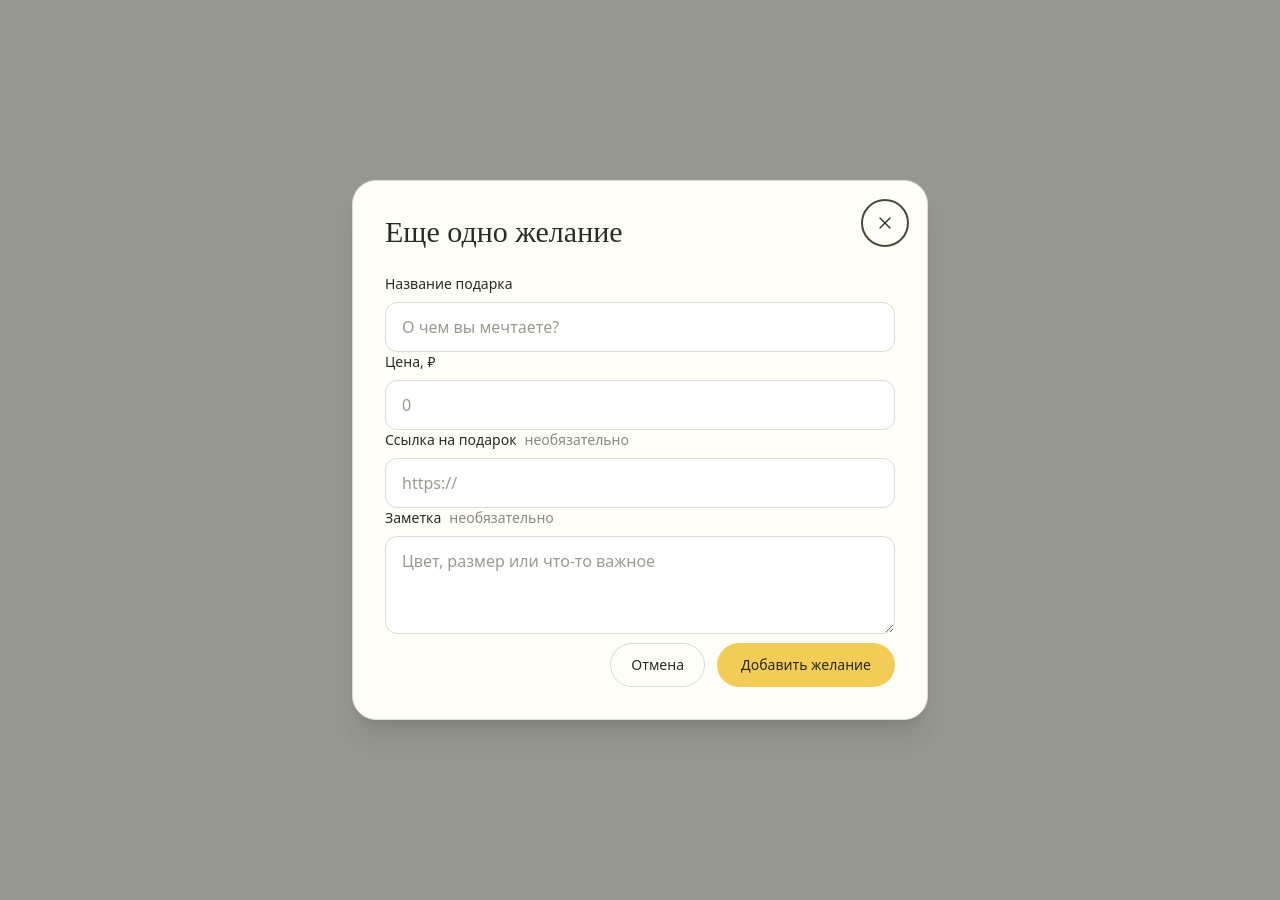
Test case: gift form validation and failed saves › never sends invalid mandatory price -1
The width and height of the screenshot is (1280, 900).
Type "Тестовый подарок" into the field labelled "Название подарка" at (640, 327), box [385,302,895,352]
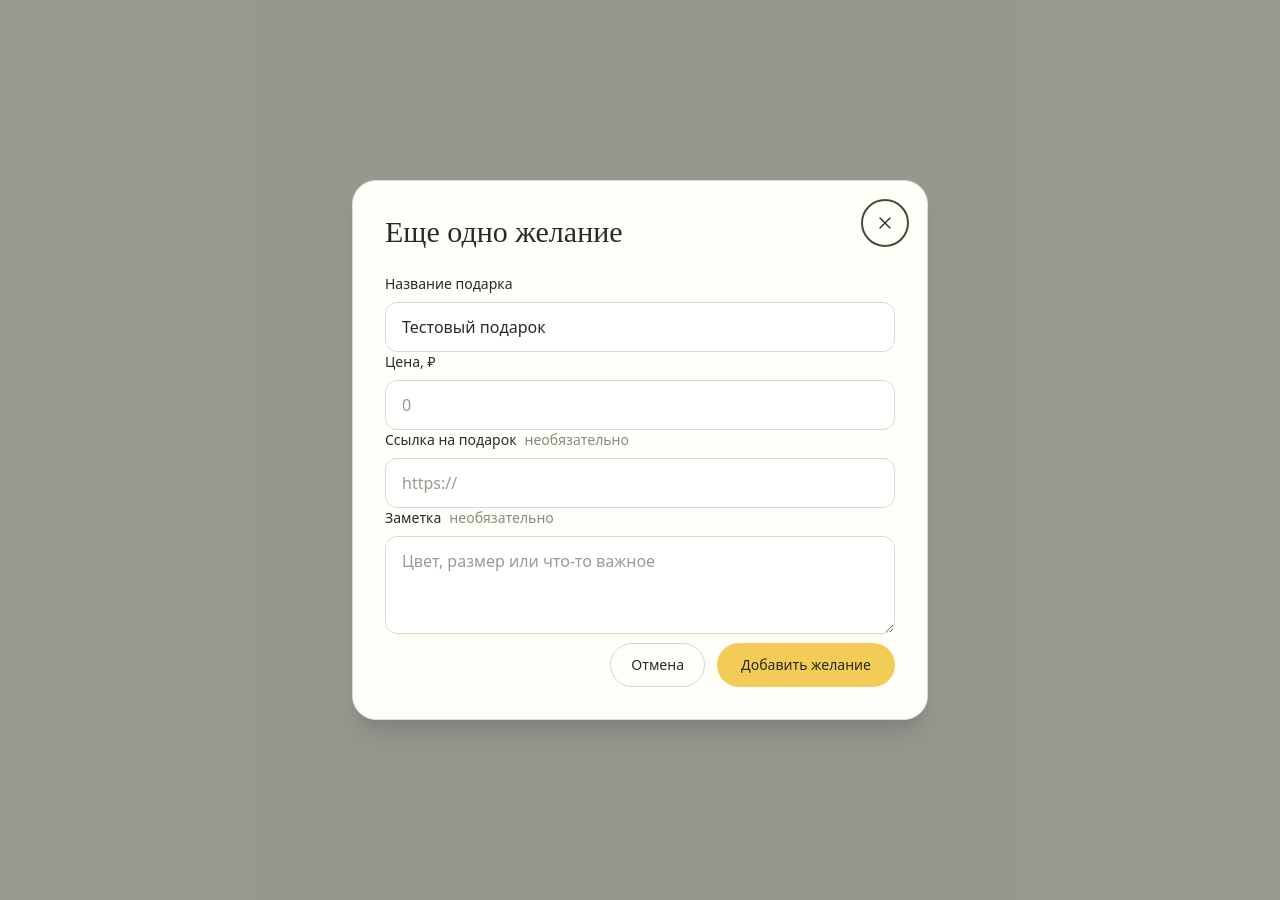
Type "-1" into the field labelled "Цена, ₽" at (640, 405), box [385,380,895,430]
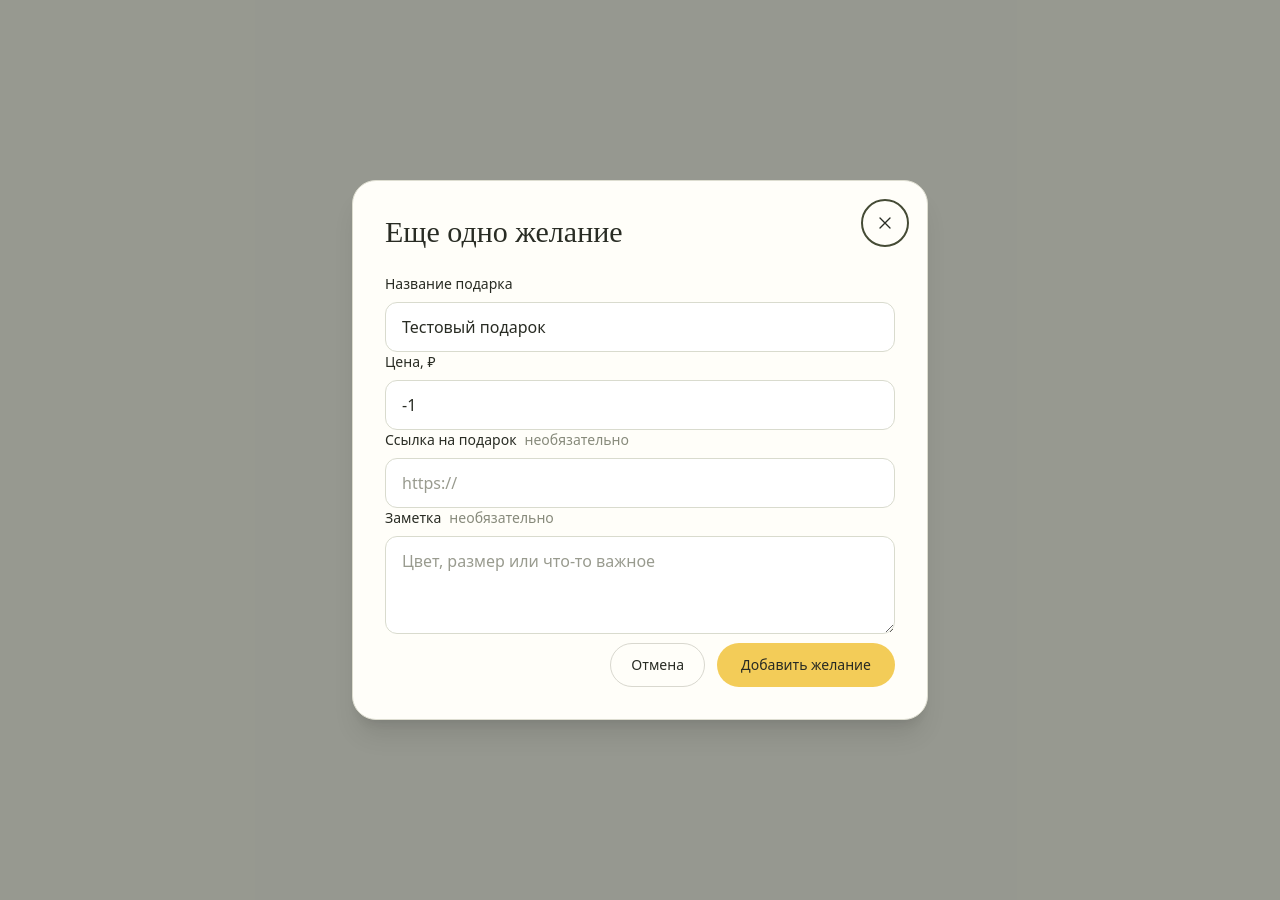
Submit the form named "Добавить желание", box [385,274,895,687]
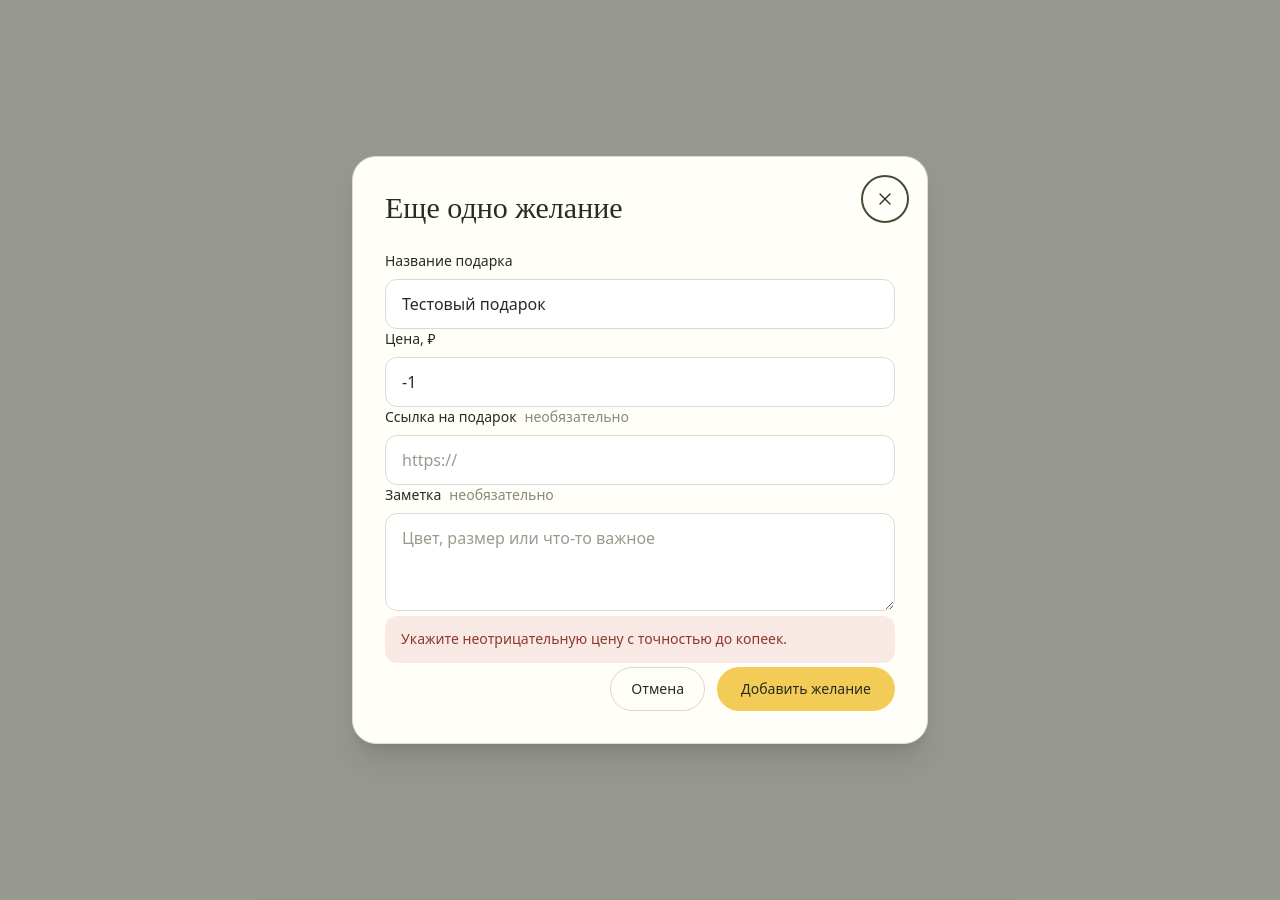
Now the message shows "Укажите неотрицательную цену", box [401,629,787,648]
